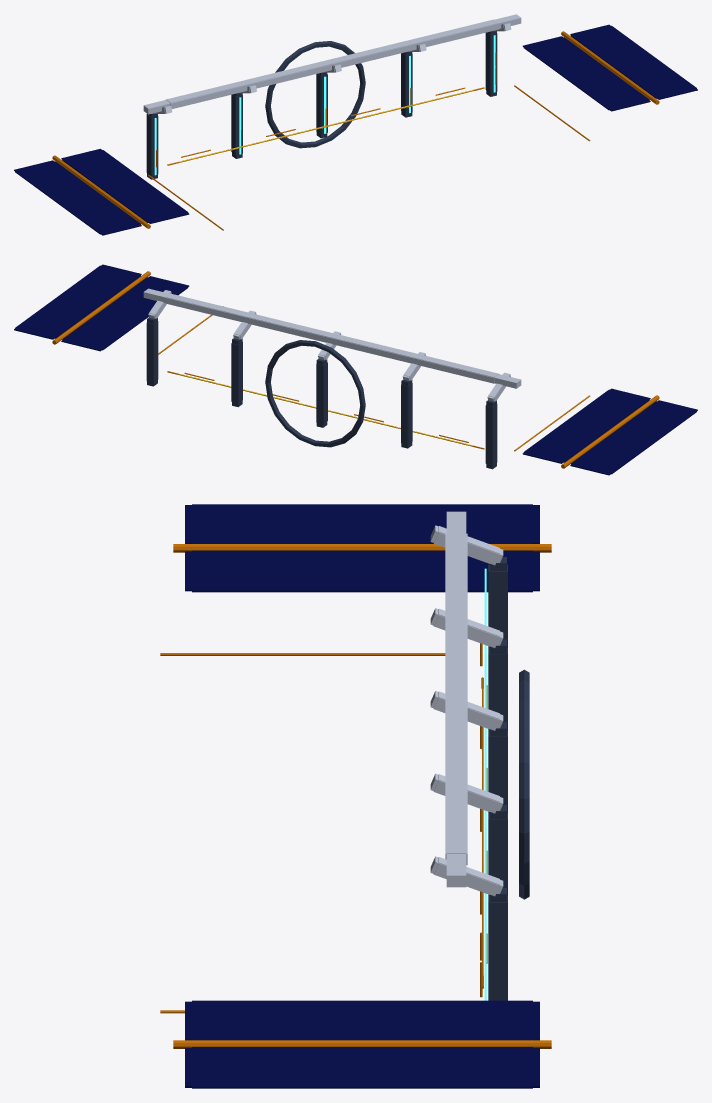
Rendered from iss_orbital_ribs.glb.
The picture shows the model from 3 angles, top to bottom: view 1: azimuth 30°, elevation 25°; view 2: azimuth 150°, elevation 25°; view 3: azimuth 270°, elevation 25°; orthographic projection. The views are drawn at different scales.
Parts seen in each view (by area): view 1: ISSolarArray, ISSAtriumRibsBody, ISSAtriumRibsGlow; view 2: ISSolarArray, ISSAtriumRibsBody, ISSAtriumRibsGlow; view 3: ISSolarArray, ISSAtriumRibsBody, ISSAtriumRibsGlow.
Boxes of the visible parts, box(x1,y1,x2,y2) form: ISSolarArray: box(14, 24, 697, 235); ISSAtriumRibsBody: box(143, 14, 590, 230); ISSAtriumRibsGlow: box(154, 35, 495, 175); ISSolarArray: box(14, 264, 697, 475); ISSAtriumRibsBody: box(143, 288, 590, 469); ISSAtriumRibsGlow: box(179, 374, 472, 446); ISSolarArray: box(173, 504, 551, 1088); ISSAtriumRibsBody: box(160, 511, 529, 1013); ISSAtriumRibsGlow: box(481, 568, 486, 1000).
Bounding box in the file's own units: 52.8 × 8.88 × 15.
